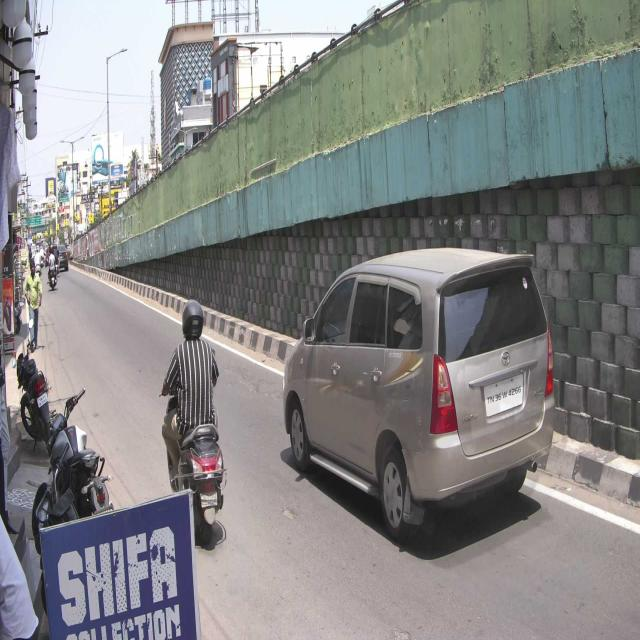single_rider: (158, 296, 229, 548)
